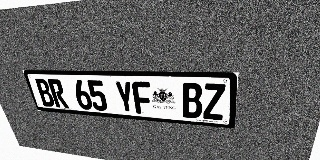5: (87, 80, 109, 111)
6: (71, 80, 94, 110)
B: (181, 83, 202, 119), (34, 79, 56, 107)
F: (131, 81, 153, 115)
R: (47, 79, 69, 108)
Y: (114, 81, 136, 113)
Z: (203, 83, 226, 120)
